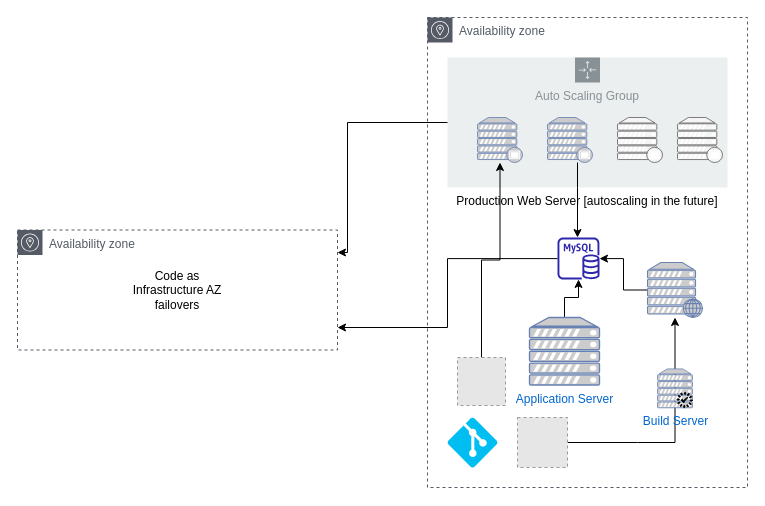
The diagram is 765 pixels wide and 506 high, and some of its shapes have lost their labels. Grey dashed boxes stand in for pictures. The centre of each missing label's shape, as x and y in pixels:
Development Server: the point at 674,289
Git Repo: the point at 472,442
